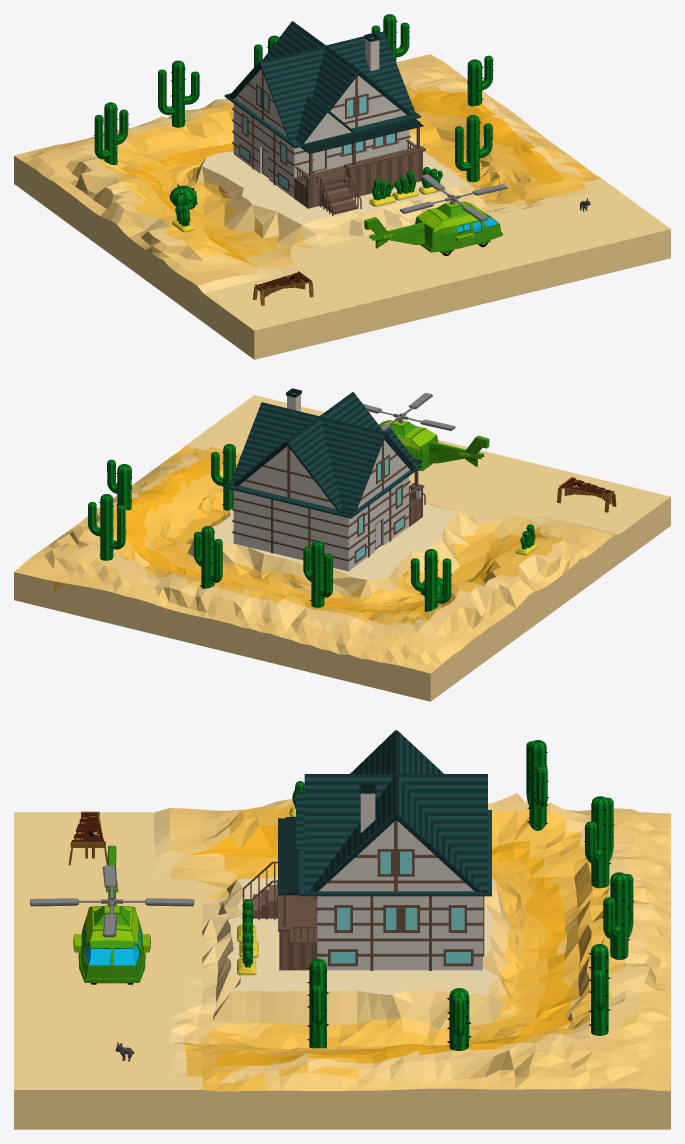
3 renders of one model, top to bottom at view 1: azimuth 30°, elevation 25°; view 2: azimuth 150°, elevation 25°; view 3: azimuth 270°, elevation 25°, orthographic. The views are drawn at different scales.
Parts seen in each view (by area): view 1: Cube.001, Cube.793, VEHICLES_HELICOPTER, Cylinder.037, Cylinder.044, Cylinder.045, Cylinder.038, OBJRANDOM_MARIMBA, Cylinder.042, Cylinder.039, Sphere.023, Cylinder.040; view 2: Cube.001, Cube.793, VEHICLES_HELICOPTER, Cylinder.042, Cylinder.045, Cylinder.044, Cylinder.043, Cylinder.037, Cylinder.038, OBJRANDOM_MARIMBA; view 3: Cube.001, Cube.793, VEHICLES_HELICOPTER, Cylinder.043, Cylinder.044, Cylinder.045, Cylinder.042, Cylinder.037, Cylinder.038, OBJRANDOM_MARIMBA, Cylinder.041.
Boxes of the visible parts, x1,y1,x2,y2 form: Cube.001: (14, 54, 670, 359); Cube.793: (224, 21, 425, 215); VEHICLES_HELICOPTER: (364, 174, 507, 255); Cylinder.037: (454, 115, 493, 182); Cylinder.044: (157, 60, 200, 127); Cylinder.045: (93, 102, 129, 164); Cylinder.038: (467, 55, 493, 106); OBJRANDOM_MARIMBA: (253, 271, 313, 305); Cylinder.042: (371, 14, 409, 62); Cylinder.039: (369, 179, 395, 206); Sphere.023: (169, 184, 197, 209); Cylinder.040: (392, 171, 418, 200); Cube.001: (14, 395, 670, 701); Cube.793: (225, 388, 425, 571); VEHICLES_HELICOPTER: (363, 393, 489, 471); Cylinder.042: (88, 494, 126, 560); Cylinder.045: (410, 549, 452, 611); Cylinder.044: (303, 540, 333, 607); Cylinder.043: (193, 526, 222, 588); Cylinder.037: (211, 444, 240, 510); Cylinder.038: (107, 459, 131, 510); OBJRANDOM_MARIMBA: (557, 477, 616, 512); Cube.001: (14, 793, 670, 1129); Cube.793: (242, 730, 491, 970); VEHICLES_HELICOPTER: (30, 845, 194, 984); Cylinder.043: (602, 872, 634, 959); Cylinder.044: (584, 796, 614, 888); Cylinder.045: (526, 740, 548, 830); Cylinder.042: (588, 944, 610, 1035); Cylinder.037: (307, 958, 328, 1048); Cylinder.038: (447, 988, 471, 1050); OBJRANDOM_MARIMBA: (68, 811, 108, 865); Cylinder.041: (237, 932, 256, 975).
Bounding box in the file's own units: 4002 × 1630 × 4001.
Materials: 29 (3 with a texture image).
